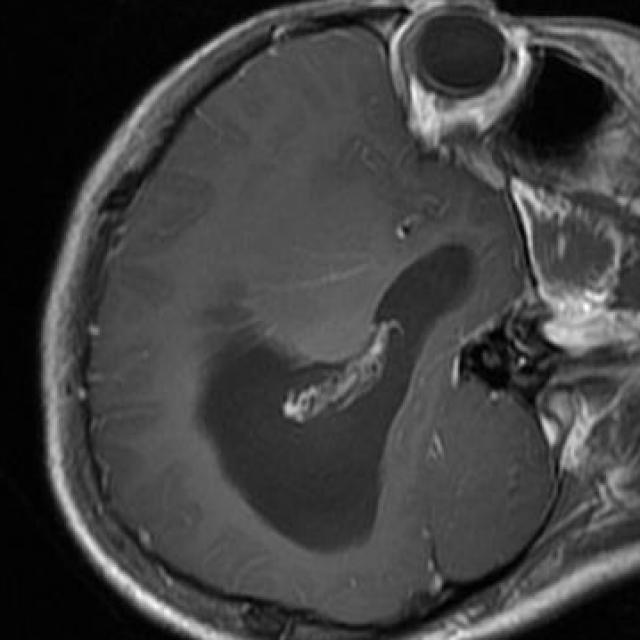glioma: (193, 244, 474, 553)
